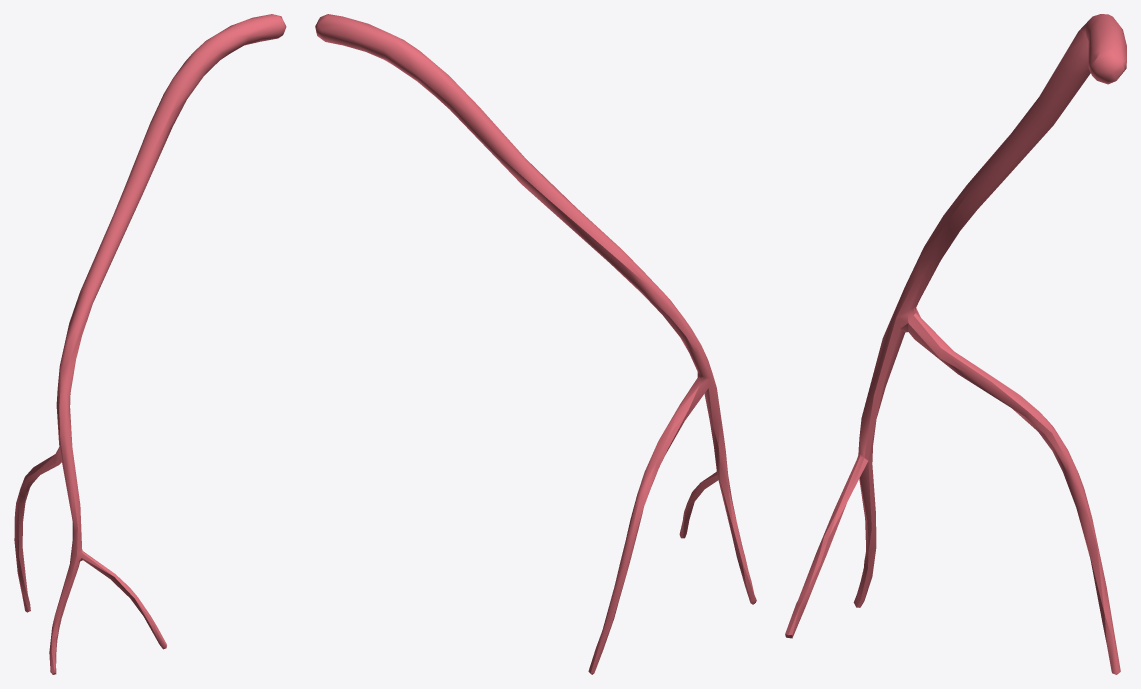
File: fma79525_fj5121.glb
3 views of the same model, side by side, from view 1: azimuth 30°, elevation 25°; view 2: azimuth 150°, elevation 25°; view 3: azimuth 270°, elevation 25° (orthographic). The views are drawn at different scales.
Parts seen in each view (by area): view 1: FMA79525_FJ5121; view 2: FMA79525_FJ5121; view 3: FMA79525_FJ5121.
Boxes of the visible parts, x1,y1,x2,y2 form: FMA79525_FJ5121: (14,14,286,674); FMA79525_FJ5121: (315,14,756,674); FMA79525_FJ5121: (785,14,1126,674).
Size of the model in its own units: 0.0272 by 0.0443 by 0.0171.
